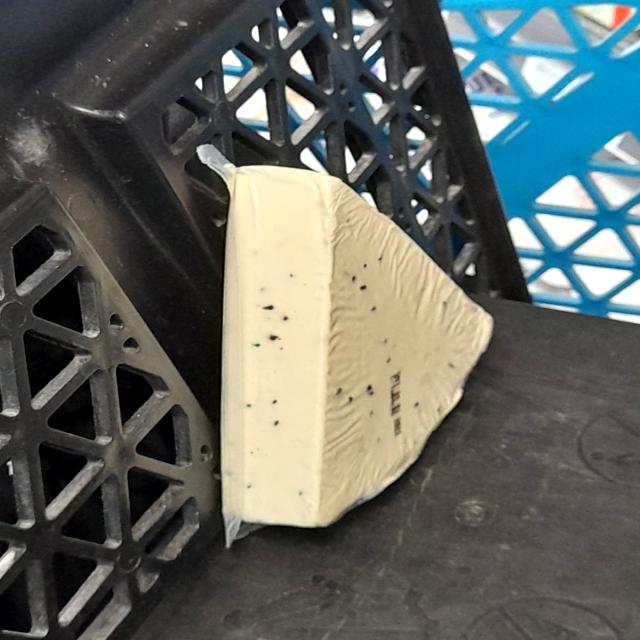cheese: (195, 156, 501, 519)
